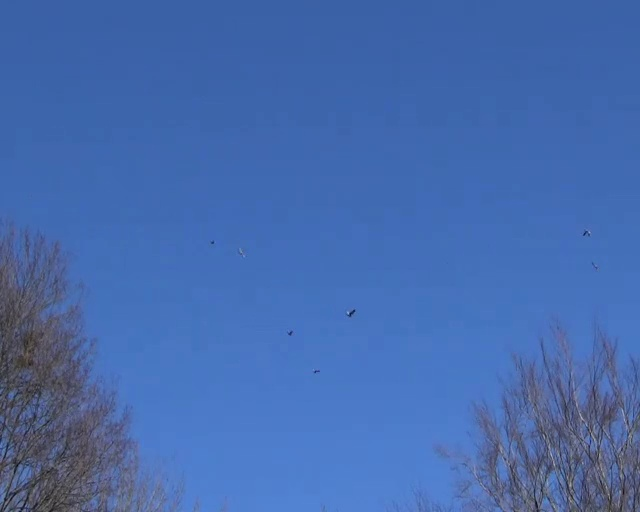BIRD: (345, 308, 356, 317)
